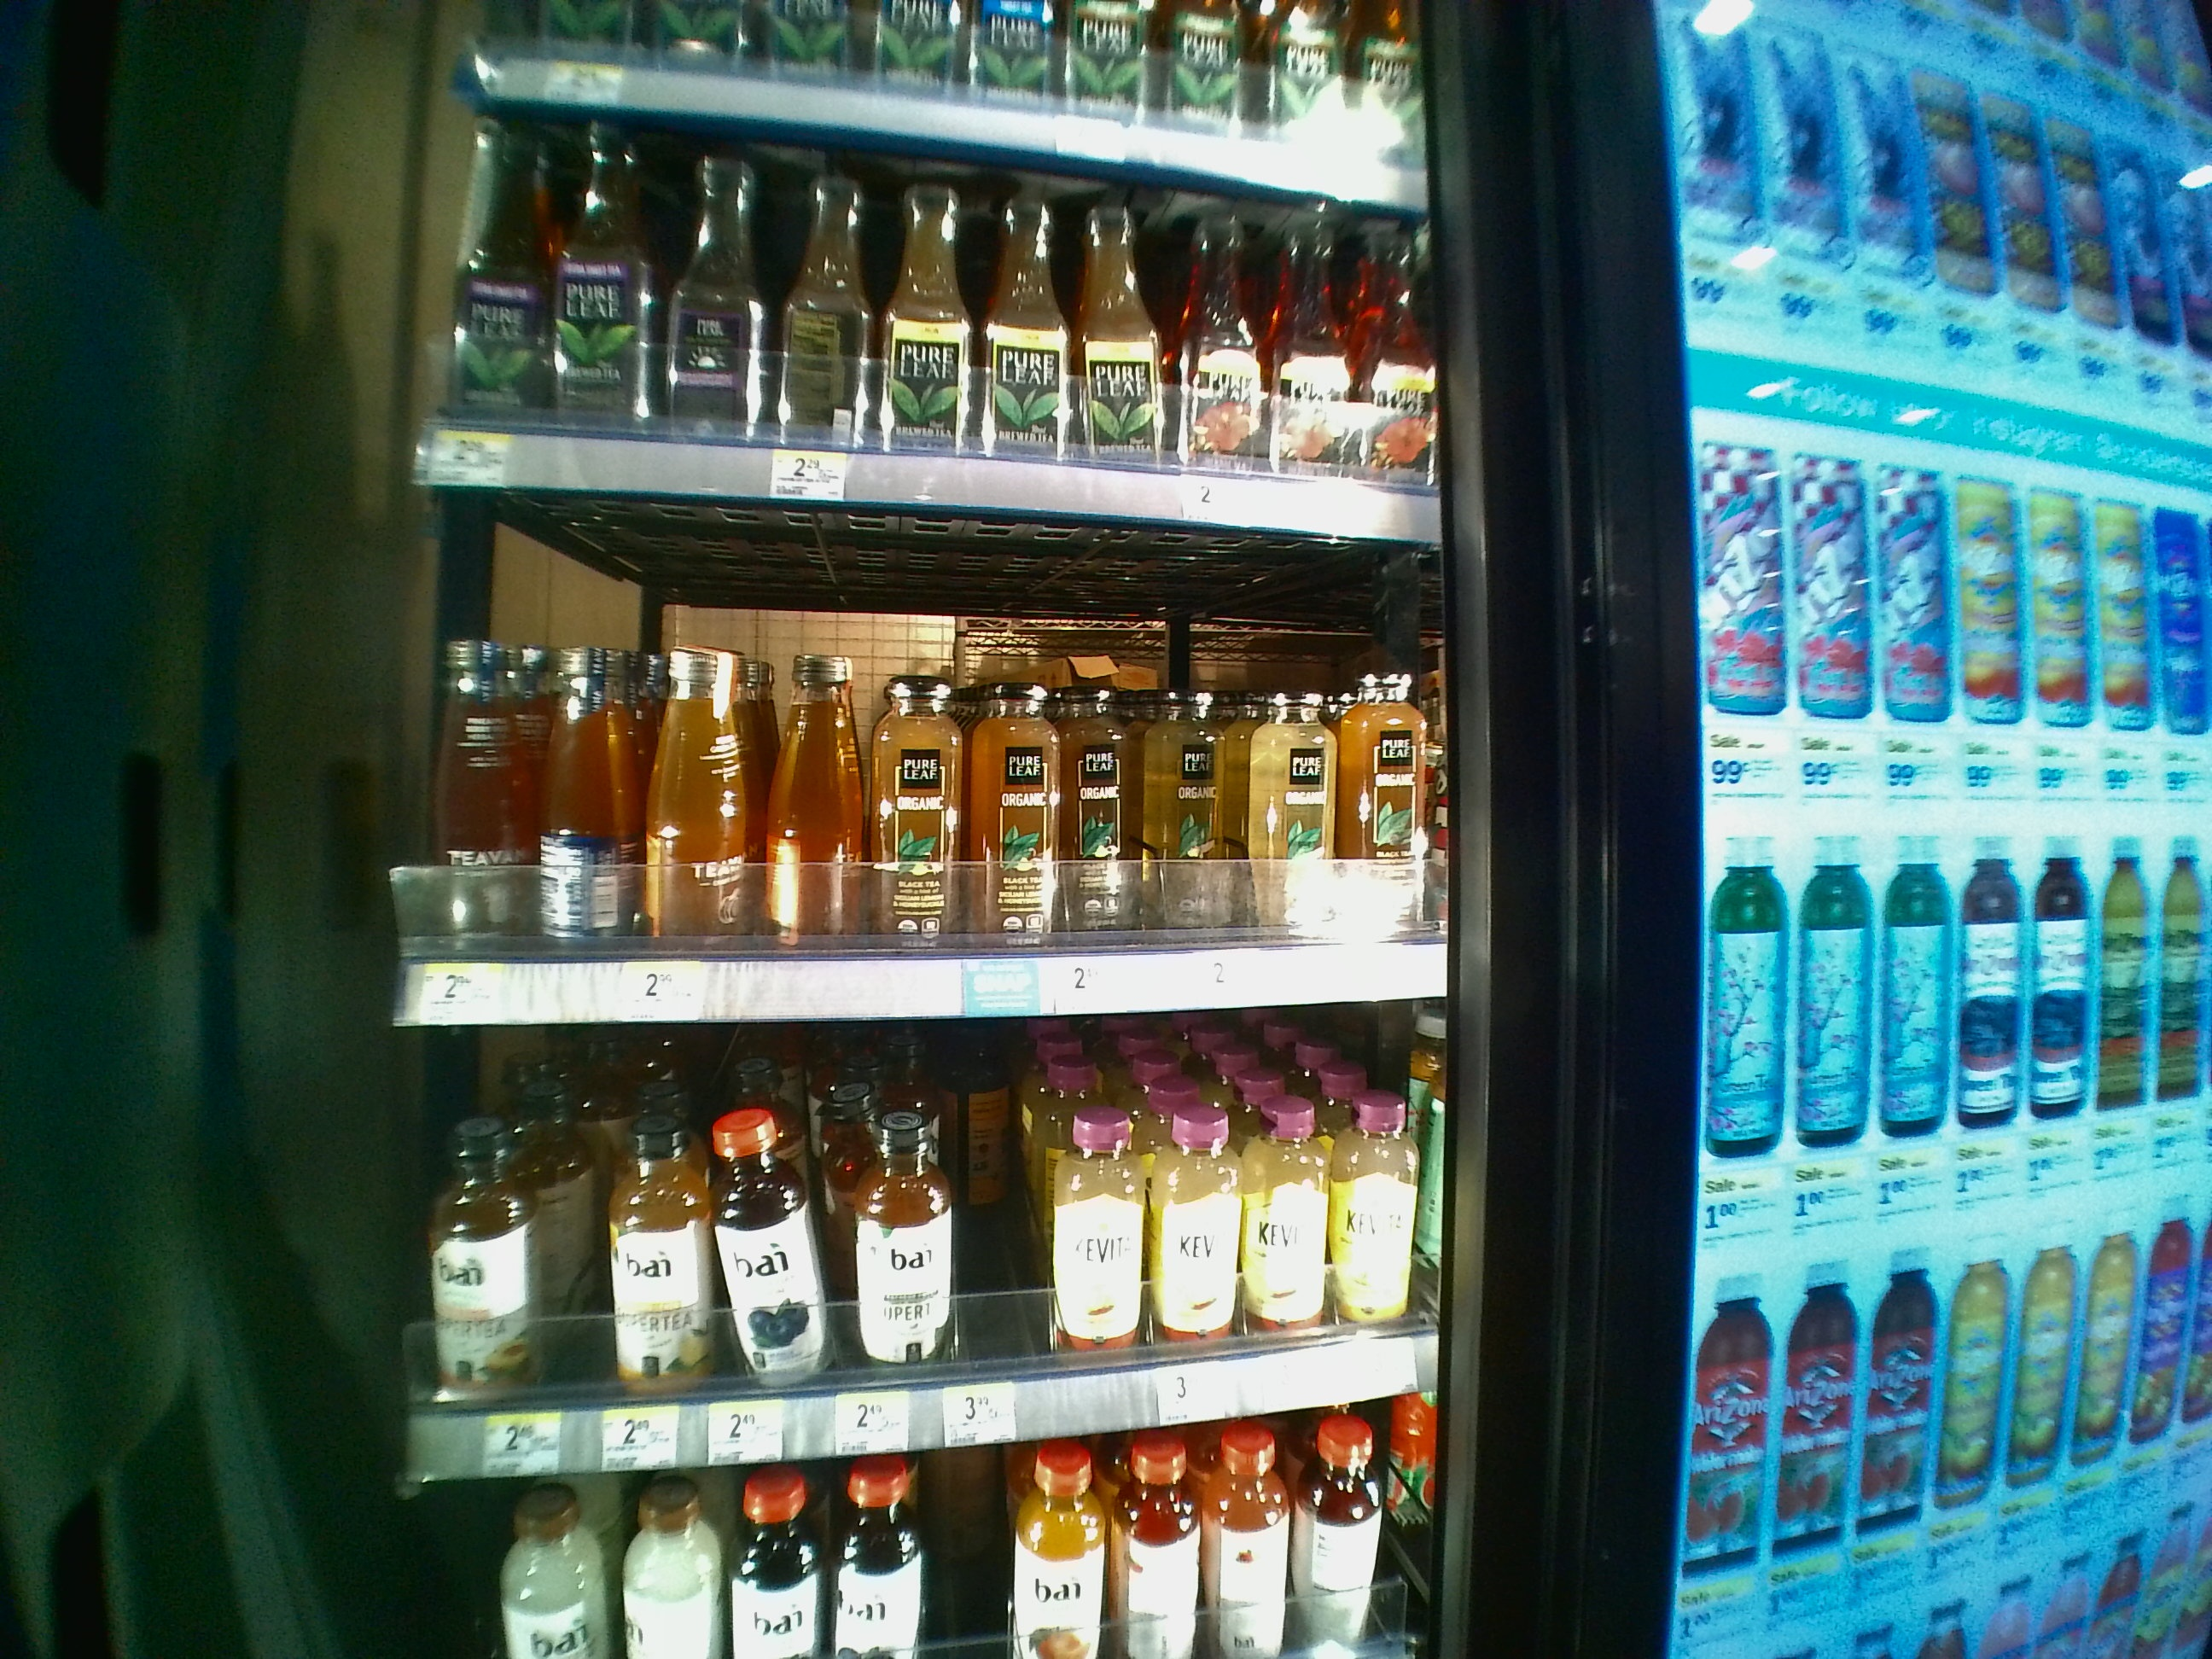shelf: (392, 500, 1444, 1023), (399, 1037, 1446, 1480)
